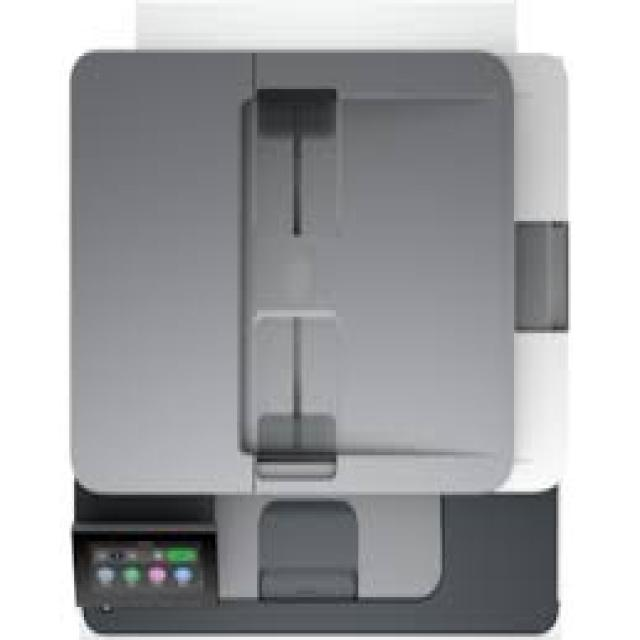printer: (67, 0, 568, 637)
